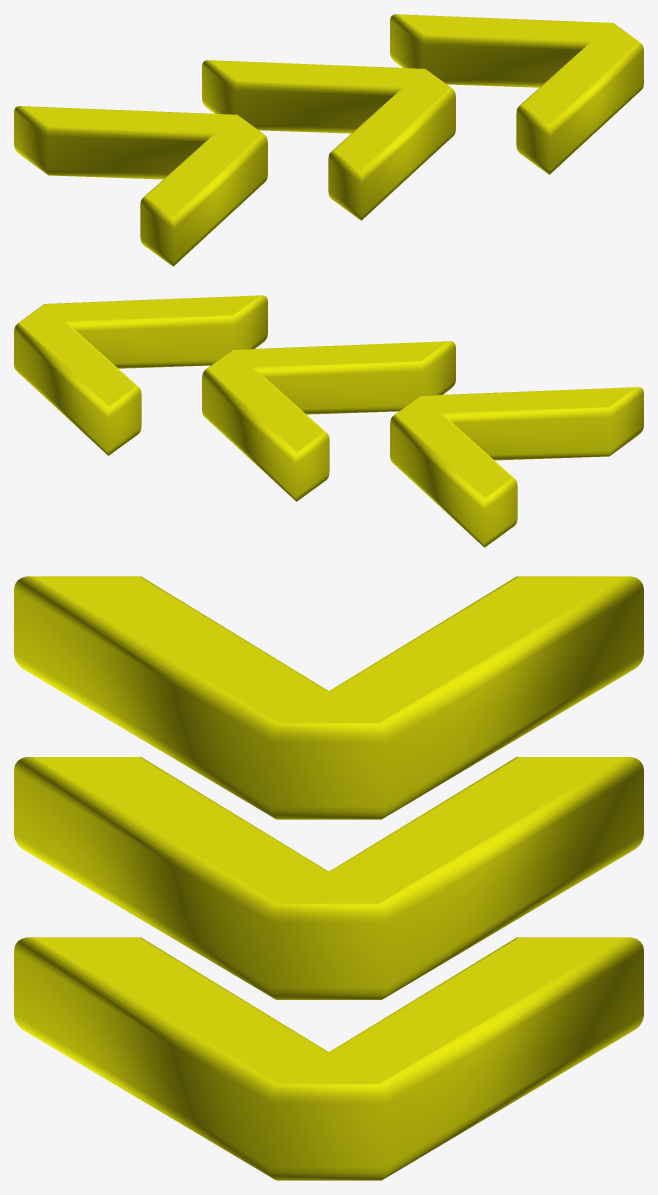
3 renders of one model, top to bottom at view 1: azimuth 30°, elevation 25°; view 2: azimuth 150°, elevation 25°; view 3: azimuth 270°, elevation 25°, orthographic. The views are drawn at different scales.
Parts seen in each view (by area): view 1: Text; view 2: Text; view 3: Text.
Part boxes in pixels (bbox=[...]): Text: bbox=[14, 14, 643, 266]; Text: bbox=[14, 295, 643, 547]; Text: bbox=[14, 576, 643, 1180].
Size of the model in its own units: 0.9364 by 0.4853 by 0.0819.
